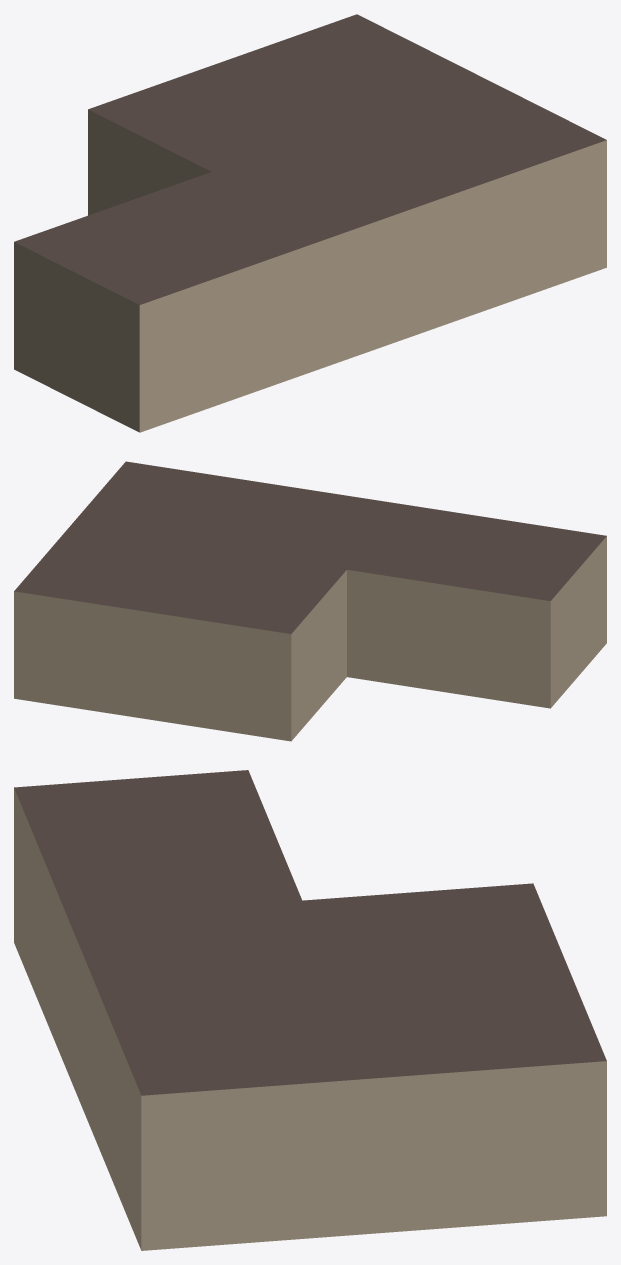
3 renders of one model, top to bottom at view 1: azimuth 30°, elevation 25°; view 2: azimuth 150°, elevation 25°; view 3: azimuth 270°, elevation 25°, orthographic. The views are drawn at different scales.
Visible parts, largest first — view 1: HP-w1138074121; view 2: HP-w1138074121; view 3: HP-w1138074121.
Part boxes in pixels (bbox=[...]): HP-w1138074121: bbox=[14, 14, 606, 432]; HP-w1138074121: bbox=[14, 461, 606, 741]; HP-w1138074121: bbox=[14, 770, 606, 1250].
Size of the model in its own units: 40.52 by 9 by 31.17.
